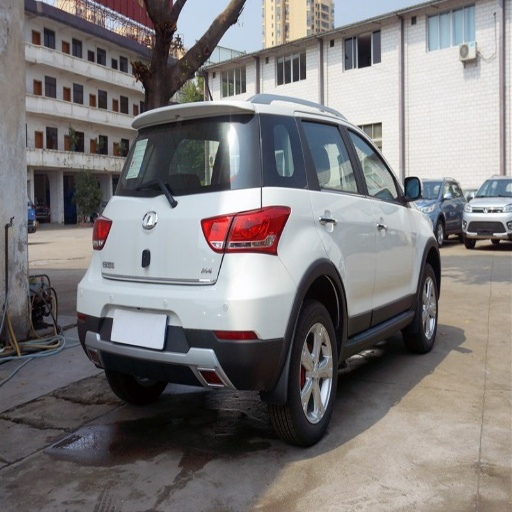back_bumper: (78, 251, 299, 390)
back_right_door: (292, 112, 377, 337)
trunk: (96, 192, 256, 283)
